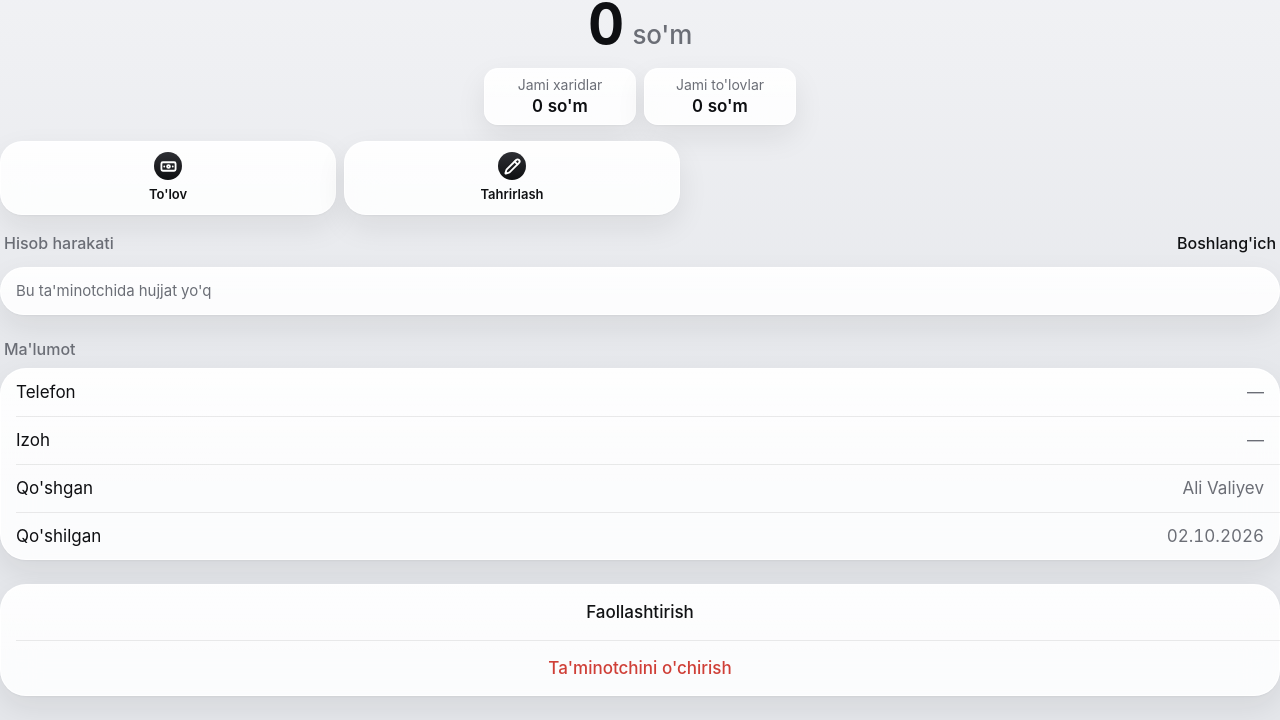
Test: deleting the supplier leads back to the list
This screenshot has width=1280, height=720.
(page scrolled)
Click the button "Ta'minotchini o'chirish" at [640, 668], box [0,640,1279,696]
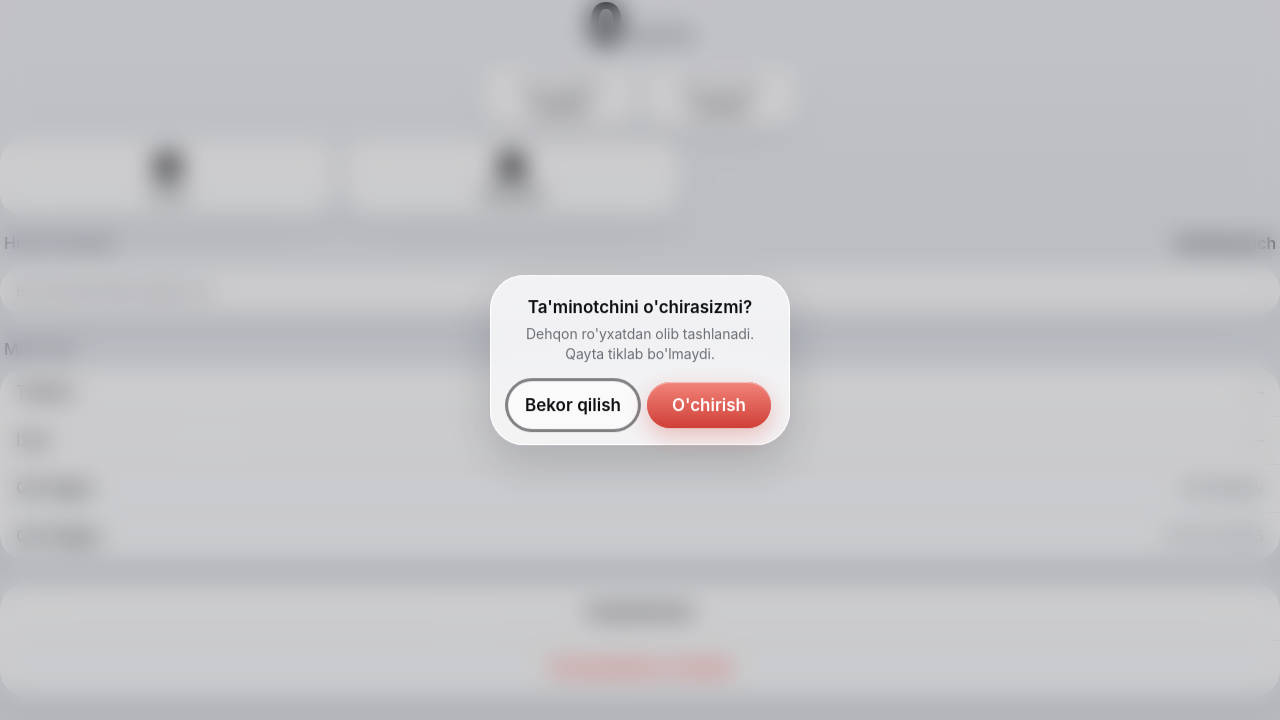
Click the button "O'chirish" at [709, 405], box [646,381,772,429]
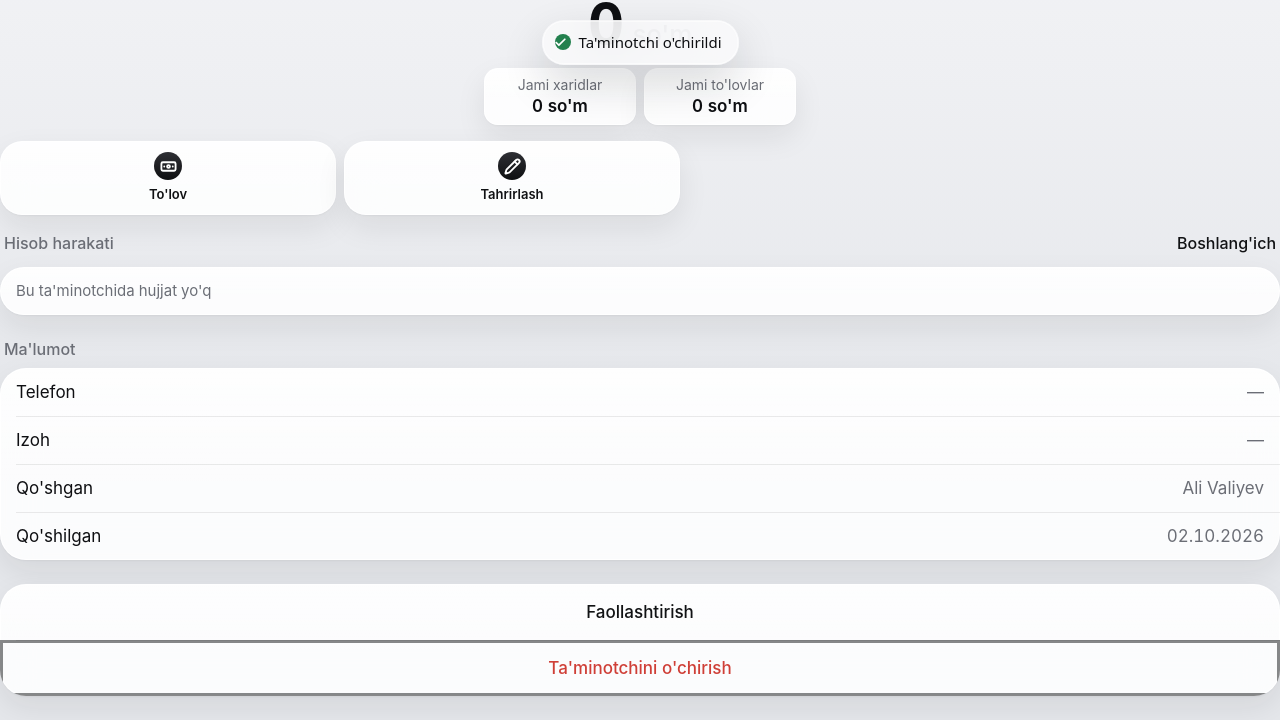
Expected: the text "Ta'minotchi o'chirildi" is shown, [578,31,722,54]
